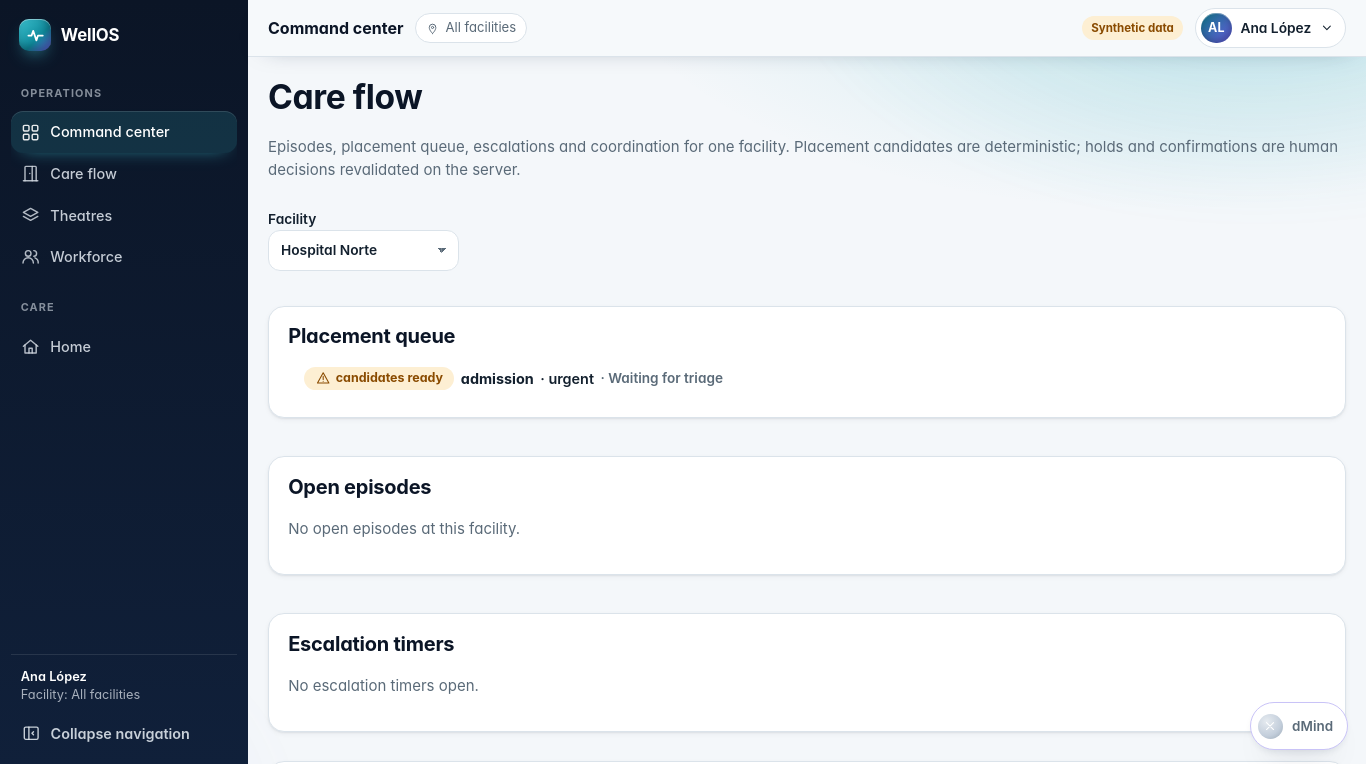
Test: /operations/flow placement › surfaces a stale 409 conflict without pretending the placement happened
The image size is (1366, 764).
What coordinates should you click on to do the following:
click the button "candidates ready admission · urgent · Waiting for triage"
I would click on:
 (379, 379)
Its box is [288,358,1326,399].
(page scrolled)
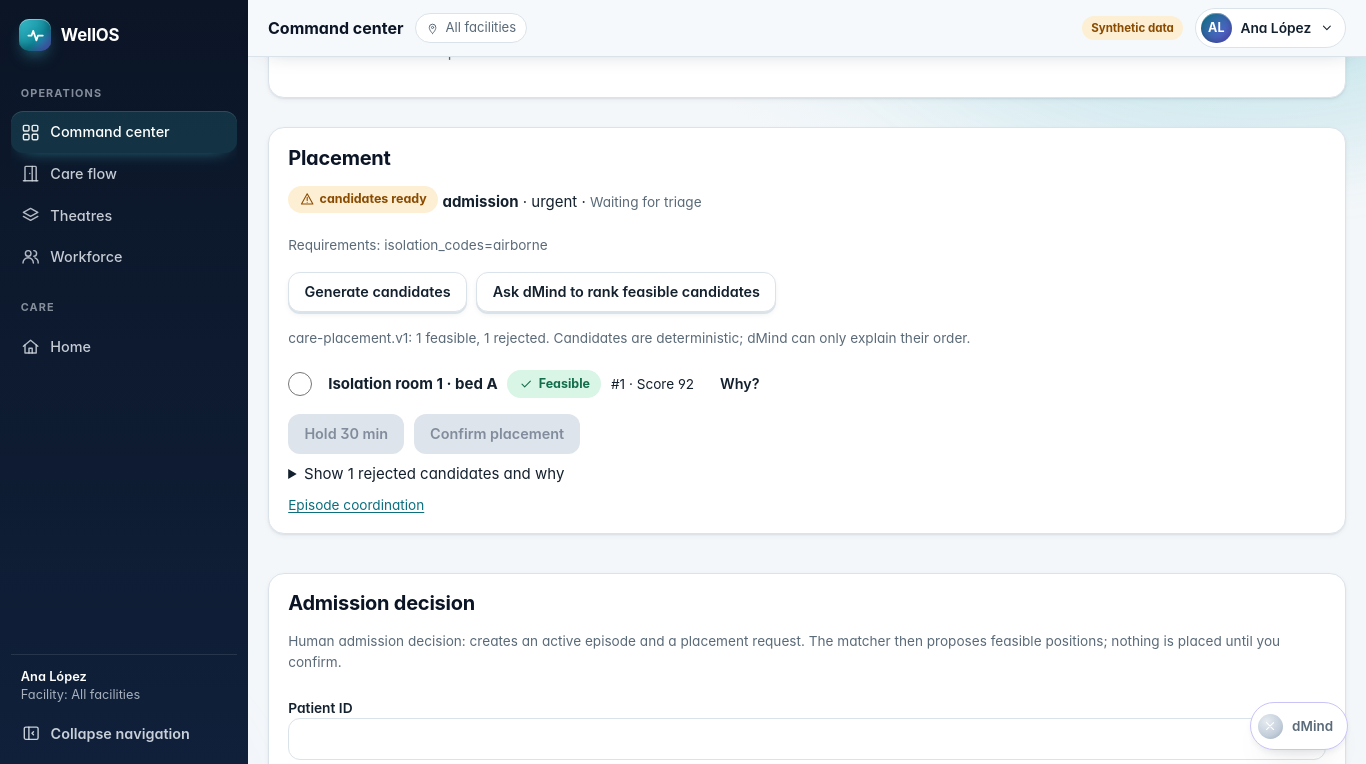
What coordinates should you click on to do the following:
click the radio button
I would click on:
 (300, 384)
Its box is [288,372,312,396].
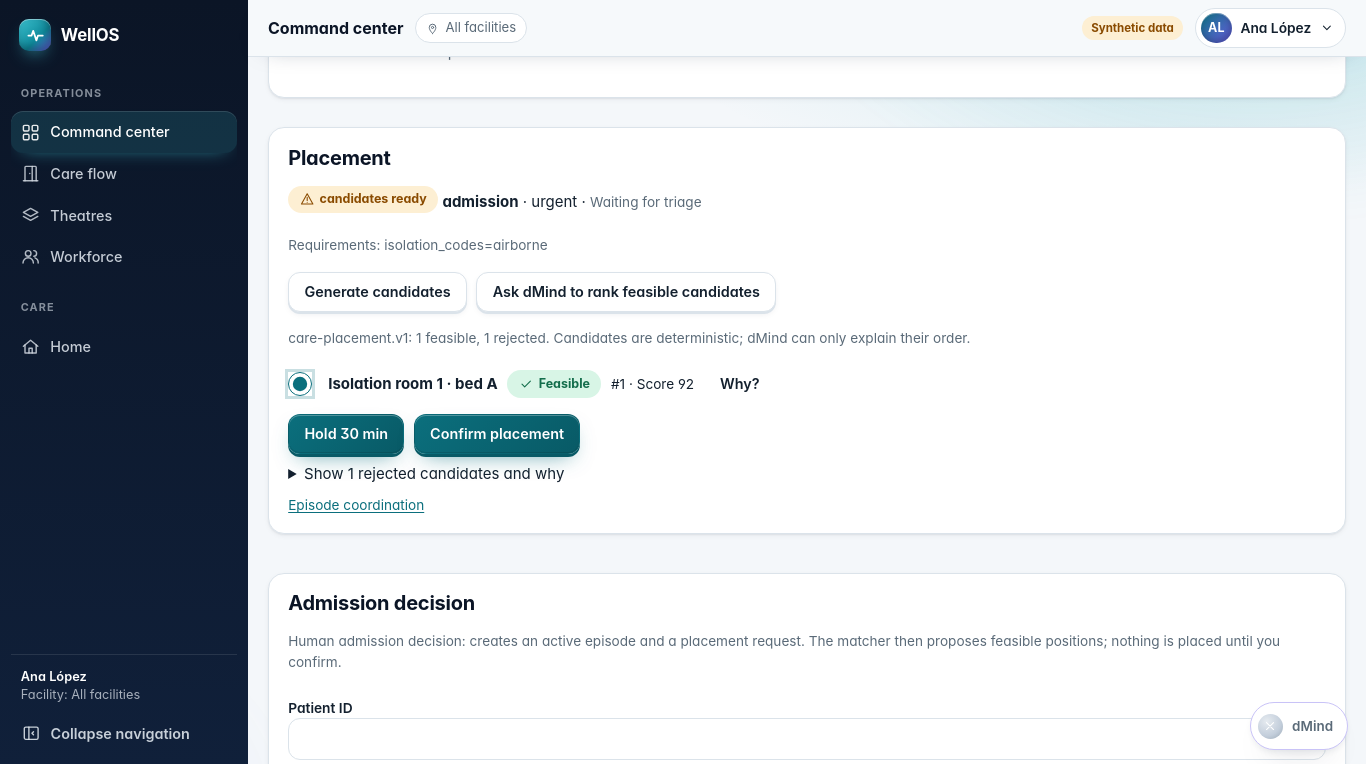
What coordinates should you click on to do the following:
click the button "Confirm placement"
I would click on:
 (497, 434)
Its box is [414,414,580,454].
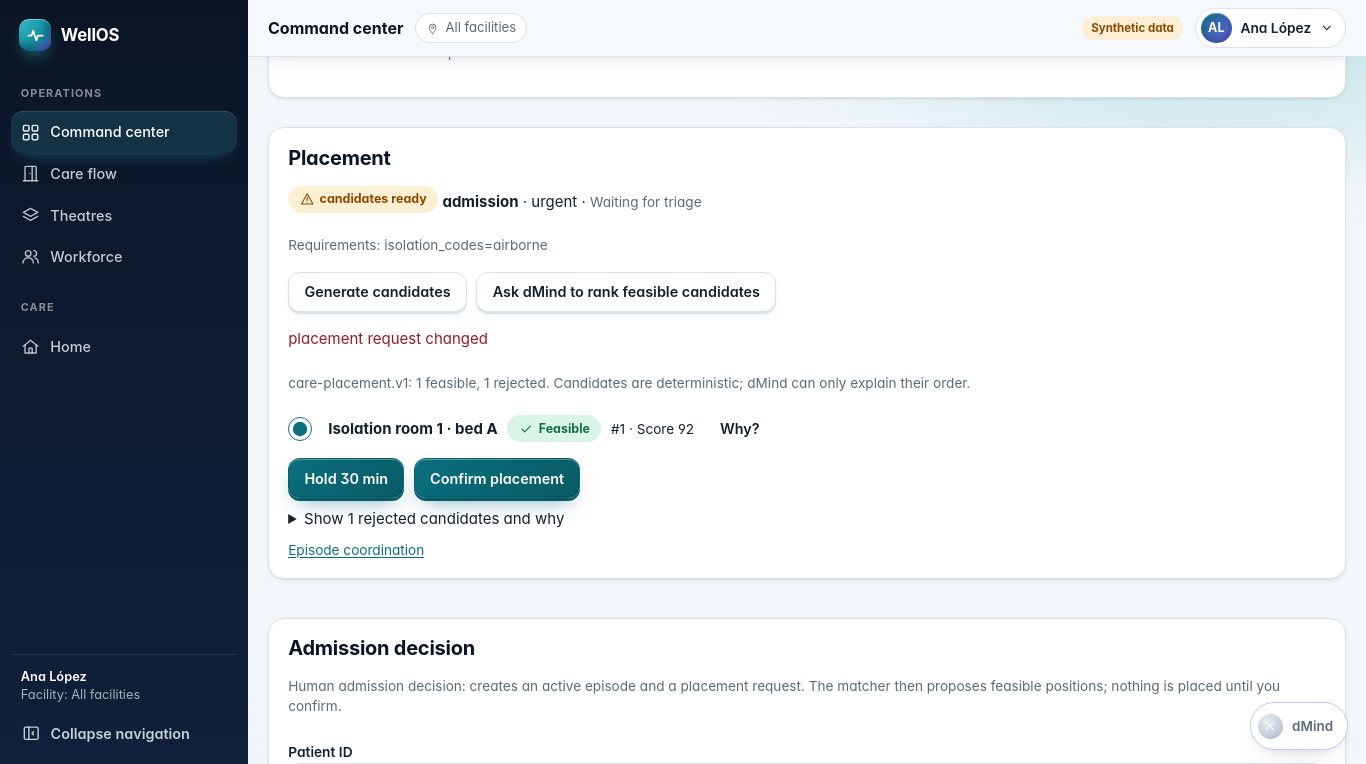
Result: the message "placement request changed" is shown at [288,329,488,348]
